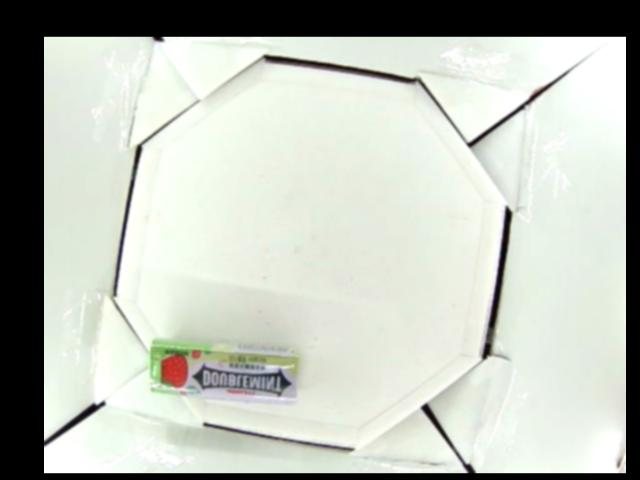Bottle: (145, 336, 298, 400)
